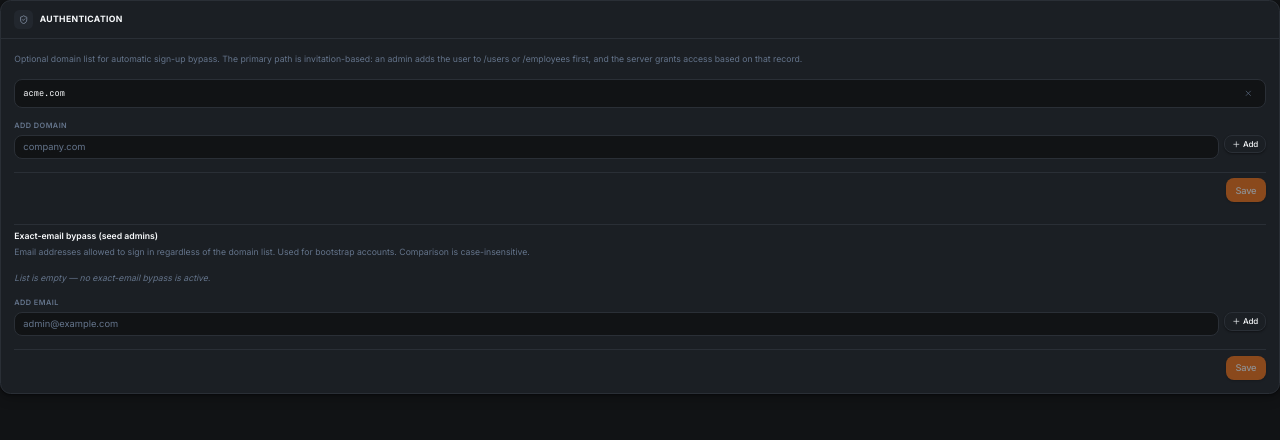
Test: AuthSettingsPanel › shows fail-closed banner when all domains are removed
This screenshot has width=1280, height=440.
Check: the text "acme.com" is shown, box x1=23 y1=87 x2=65 y2=100
Click the button named "Remove domain acme.com": (1249, 93) x1=1241 y1=85 x2=1257 y2=101
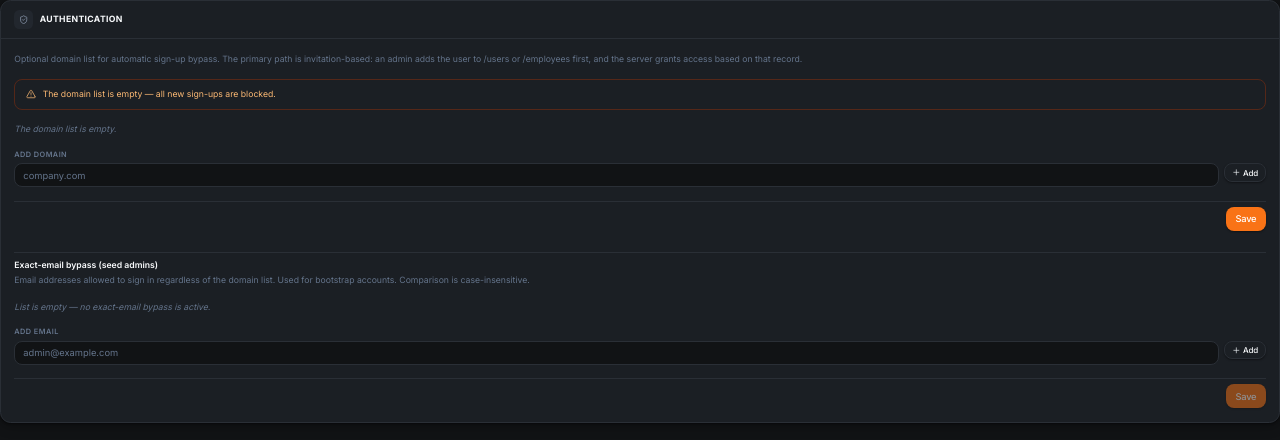
Check: the message "The domain list is empty — all new sign-ups are blocked." is shown, box x1=14 y1=79 x2=1266 y2=110
Check: the text "acme.com" is gone
